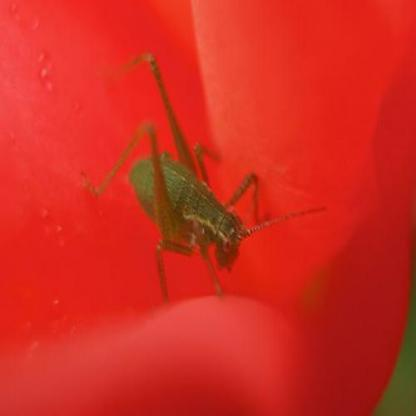aphid: (103, 41, 282, 297)
